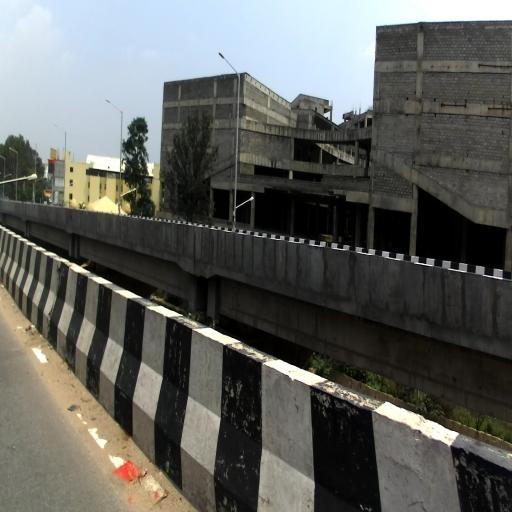street_light_0: (217, 51, 241, 79), (0, 173, 38, 185), (106, 100, 122, 118), (233, 196, 253, 210), (118, 188, 137, 201), (53, 123, 67, 135), (63, 180, 77, 188), (34, 174, 46, 182), (26, 137, 36, 146), (9, 147, 18, 155), (4, 174, 11, 179)
